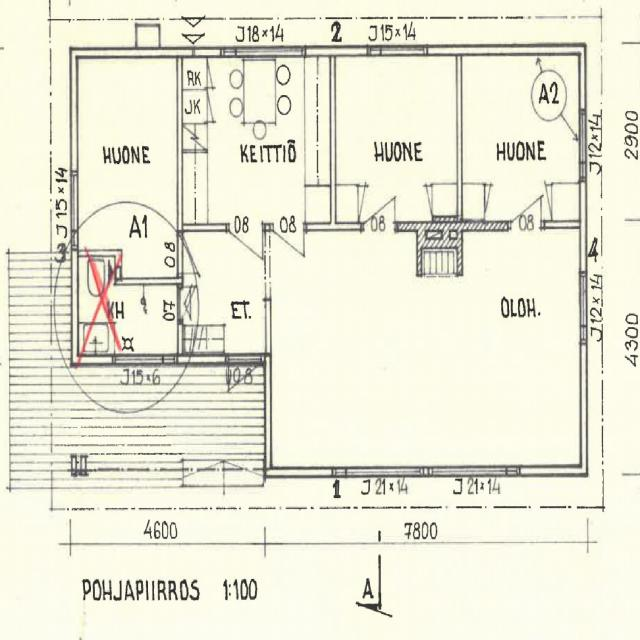door: (228, 354, 260, 414), (230, 221, 262, 277), (363, 175, 395, 229), (273, 221, 304, 274), (511, 177, 541, 229), (177, 236, 209, 274), (177, 286, 207, 322)
